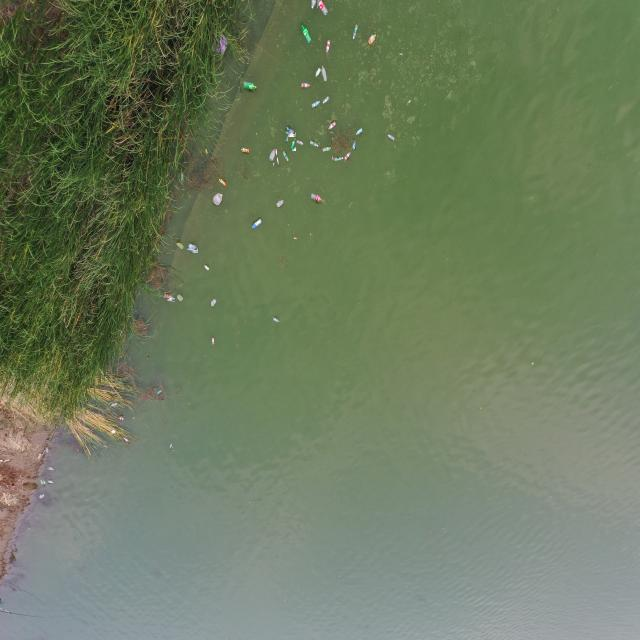plastic: (210, 28, 231, 55), (300, 20, 312, 45), (240, 78, 258, 93), (317, 0, 328, 20), (310, 192, 326, 205), (212, 192, 225, 207), (352, 22, 361, 40), (367, 31, 377, 47), (250, 217, 263, 229), (284, 130, 296, 143), (321, 64, 329, 82), (240, 143, 251, 155), (326, 120, 338, 131), (154, 388, 164, 400), (326, 38, 332, 58), (310, 99, 322, 109), (281, 148, 289, 163), (273, 152, 281, 167), (288, 137, 296, 151), (269, 149, 277, 163), (342, 150, 351, 162), (319, 145, 332, 153), (274, 198, 284, 208), (354, 128, 364, 138), (285, 124, 295, 134), (386, 132, 396, 141), (301, 82, 312, 90), (332, 155, 344, 162), (322, 95, 331, 104), (38, 478, 46, 488), (187, 242, 197, 250), (218, 177, 226, 187), (312, 0, 318, 13), (309, 140, 320, 147), (272, 315, 280, 324), (176, 242, 185, 250), (315, 66, 321, 78), (108, 400, 118, 407), (210, 298, 217, 308), (176, 293, 183, 302), (164, 292, 174, 298), (122, 437, 130, 444), (45, 466, 54, 472), (203, 263, 209, 272), (295, 139, 304, 145), (181, 170, 184, 187), (190, 247, 198, 253), (352, 140, 356, 150), (39, 494, 45, 500), (110, 430, 116, 436), (47, 480, 55, 484), (117, 416, 125, 420), (168, 442, 172, 450), (211, 337, 215, 344), (167, 298, 176, 301), (46, 444, 48, 454)
